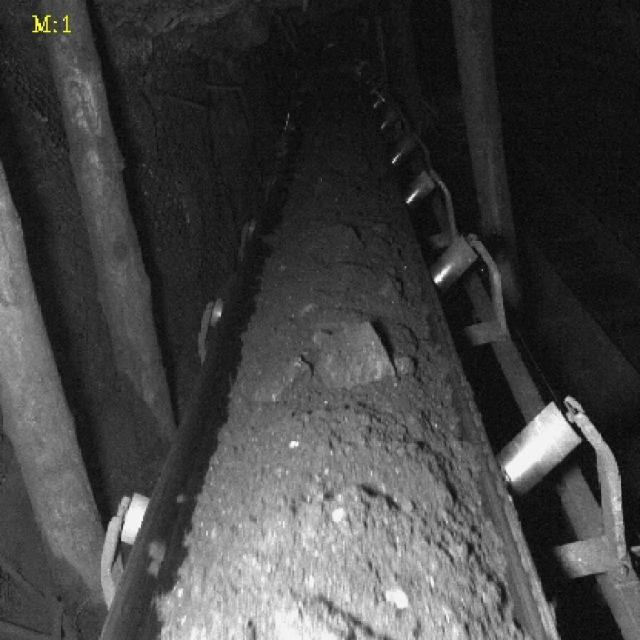large_sized_coal: (314, 324, 400, 390)
